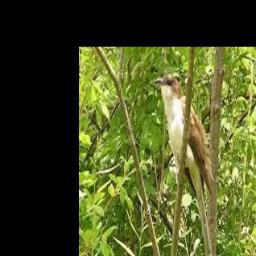Cuckoo: (154, 76, 214, 195)
